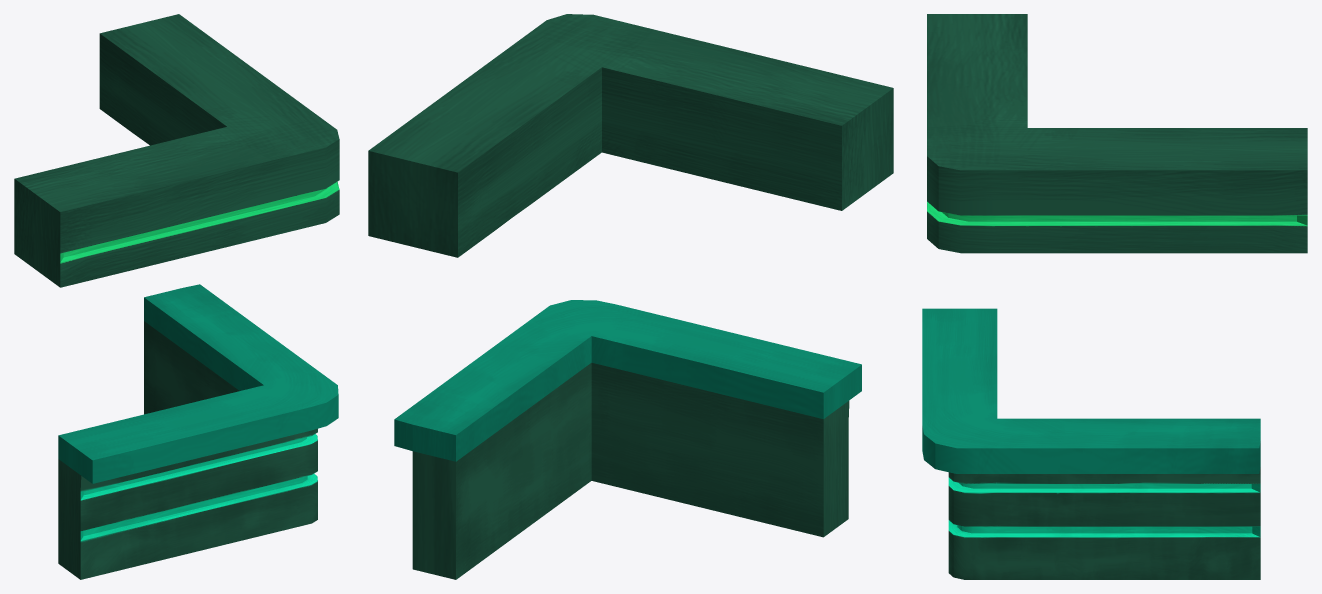
The model's file is BarraBar.fbx.
3 views of the same model, side by side, from view 1: azimuth 30°, elevation 25°; view 2: azimuth 150°, elevation 25°; view 3: azimuth 270°, elevation 25° (orthographic). The views are drawn at different scales.
Visible parts, largest first — view 1: pCube2, pCube1; view 2: pCube1, pCube2; view 3: pCube1, pCube2.
Part boxes in pixels (x1,y1,x2,y2): pCube2: [14, 14, 339, 287]; pCube1: [58, 284, 338, 579]; pCube1: [394, 300, 861, 579]; pCube2: [368, 14, 893, 257]; pCube1: [922, 308, 1260, 579]; pCube2: [927, 14, 1307, 253].
Size of the model in its own units: 17.13 by 21.41 by 17.83.
